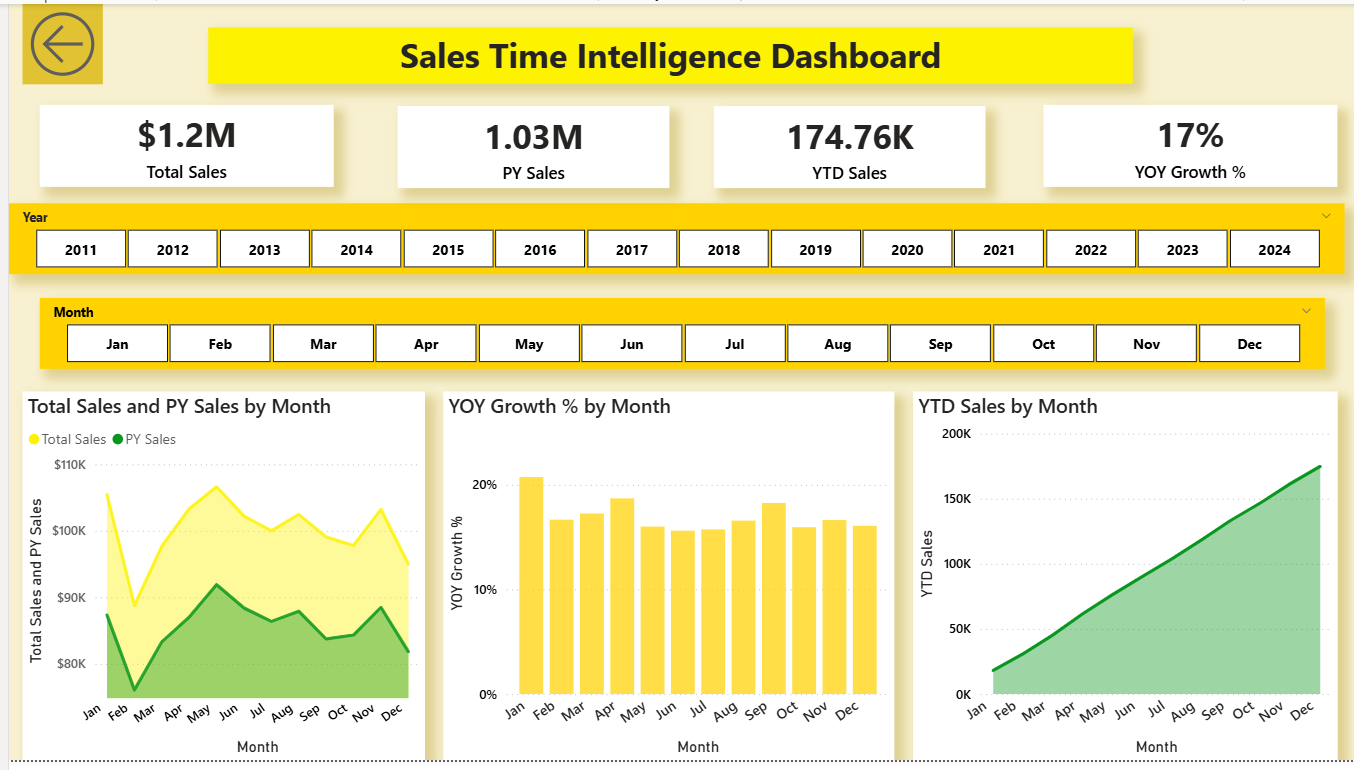

Layout of this report page (visuals, bound fields, positions):
{"tool":"powerbi","page":{"name":"Sales Trend","canvas":[1280,720],"ordinal":1},"visuals":[{"type":"card","fields":{"Values":["Date Table.YoY Growth %"]},"box":[984.2,96,279.7,78.4],"z":0},{"type":"card","fields":{"Values":["Fact Table.Total Sales"]},"box":[29.3,96,279.7,78.4],"z":1000},{"type":"card","fields":{"Values":["Date Table.YTD Sales"]},"box":[670.6,97.1,258.6,78.4],"z":2000},{"type":"textbox","box":[189.6,22.2,880.1,53.8],"z":3000},{"type":"slicer","fields":{"Values":["Date Table.Year"]},"box":[0,189.6,1270.9,67.9],"z":4000},{"type":"areaChart","fields":{"Y":["Fact Table.Total Sales","Date Table.PY Sales"],"Category":["Date Table.Month"]},"box":[12.9,368.6,382.7,351.1],"z":7000},{"type":"columnChart","fields":{"Y":["Date Table.YOY Growth %"],"Category":["Date Table.Month"]},"box":[413.1,368.6,429.5,351.1],"z":8000},{"type":"areaChart","fields":{"Y":["Date Table.YTD Sales"],"Category":["Date Table.Month"]},"box":[860.2,368.6,403.7,351.1],"z":8001},{"type":"slicer","fields":{"Values":["Date Table.Month"]},"box":[29.3,279.7,1222.9,67.9],"z":8002},{"type":"actionButton","box":[12.9,0,76.1,76.1],"z":8003},{"type":"card","fields":{"Values":["Date Table.PY Sales"]},"box":[369.8,97.1,258.6,78.4],"z":8004}]}

Visuals, with their boxes in screenshot pixels (x1, y1, x2, y2), scaled from the page's 1280x720 canvas onto the 1354x770 screenshot:
card - Date Table.YoY Growth %: (1041,103,1337,187)
card - Fact Table.Total Sales: (31,103,327,187)
card - Date Table.YTD Sales: (709,104,983,188)
textbox: (201,24,1132,81)
slicer - Date Table.Year: (0,203,1344,275)
areaChart - Fact Table.Total Sales x Date Table.PY Sales: (14,394,418,769)
columnChart - Date Table.YOY Growth % x Date Table.Month: (437,394,891,769)
areaChart - Date Table.YTD Sales x Date Table.Month: (910,394,1337,769)
slicer - Date Table.Month: (31,299,1325,372)
actionButton: (14,0,94,81)
card - Date Table.PY Sales: (391,104,665,188)
